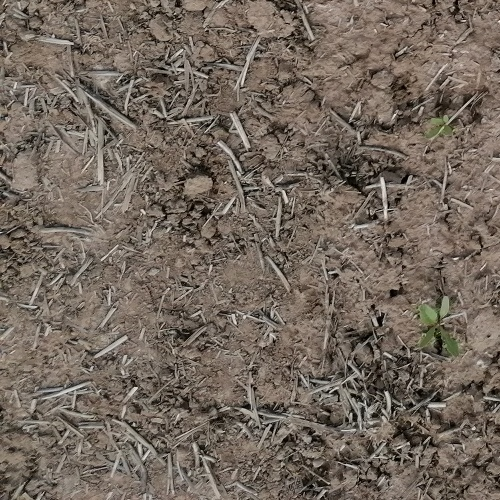beet: (418, 296, 459, 361), (425, 116, 453, 139)
